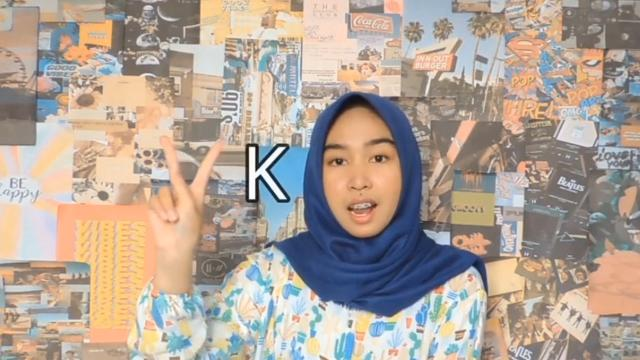K: (147, 133, 223, 258)
